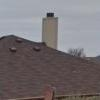Chimney: (36, 6, 60, 57)
